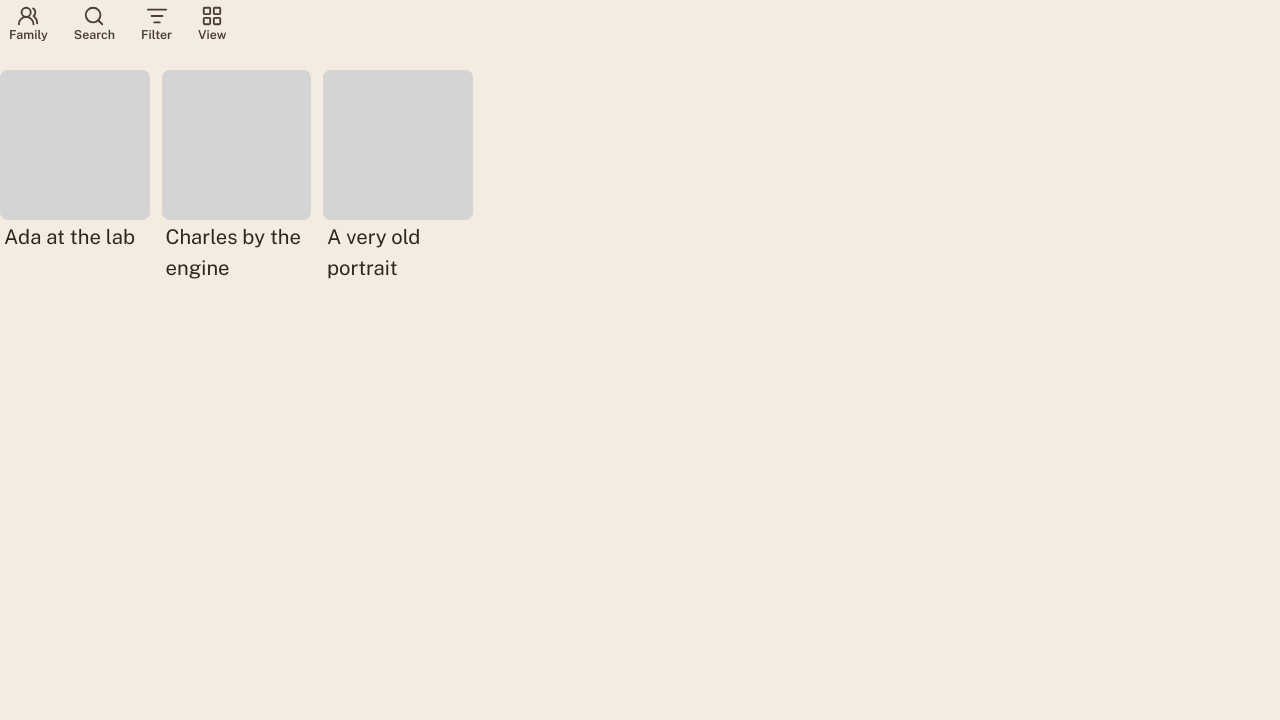
Test: AlbumControls progressive control row (#302) › opens collapsed Family / Filters panels via IconSheet (sheet/popover shells)
The image size is (1280, 720).
Click the button "Family": (28, 23) [0,0,57,45]
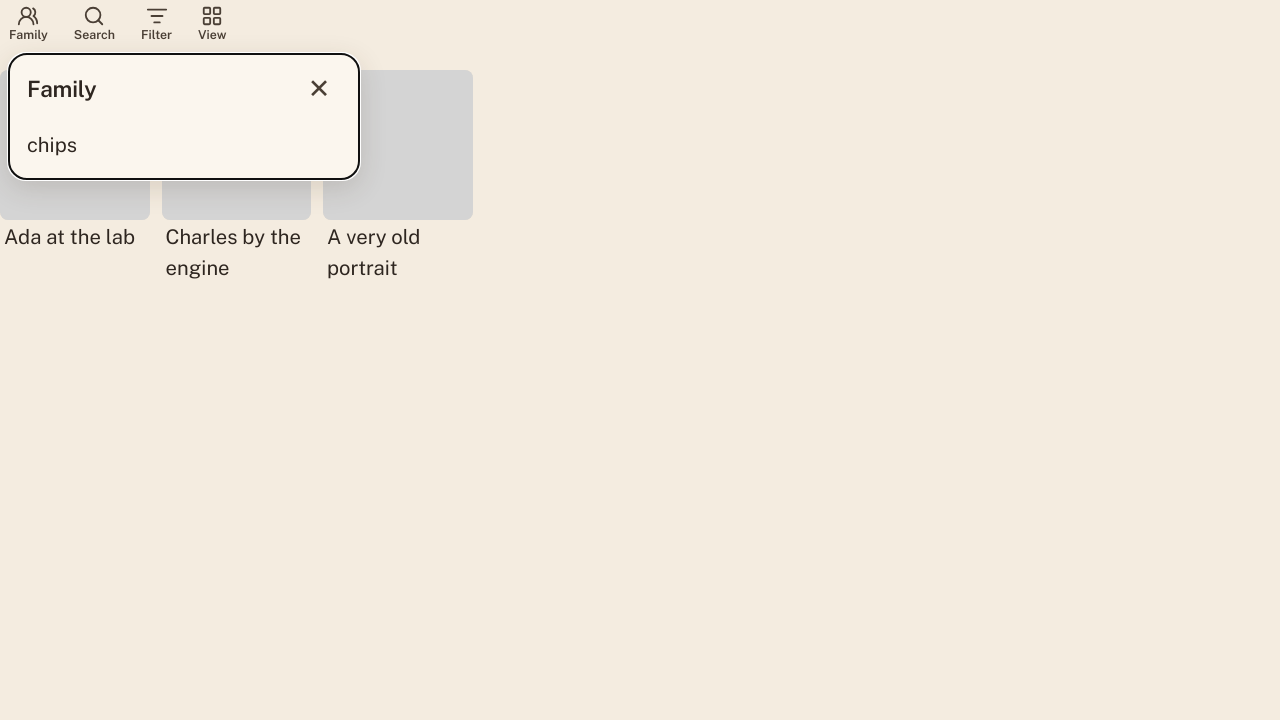
Now the text "chips" is shown, box [27,133,77,157]
Click the button "Filter": (156, 23) [132,0,181,45]
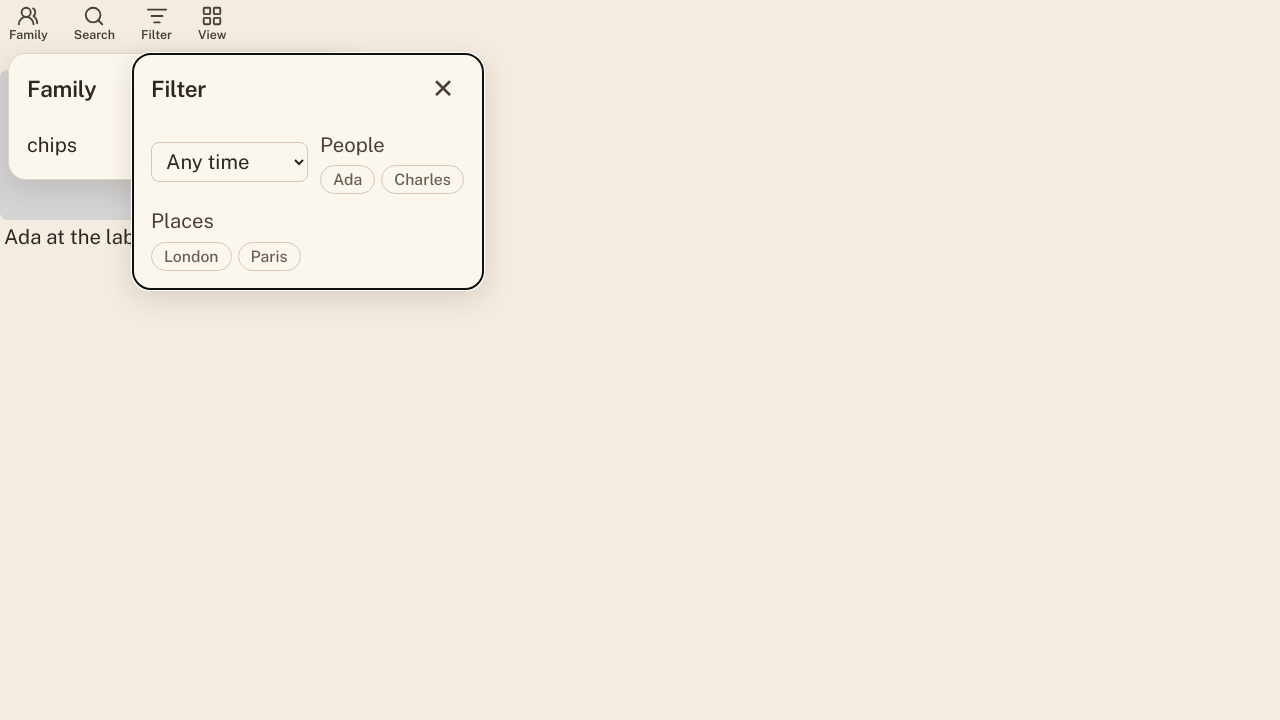
Now the dropdown named "When" is shown, box [151,142,308,182]
